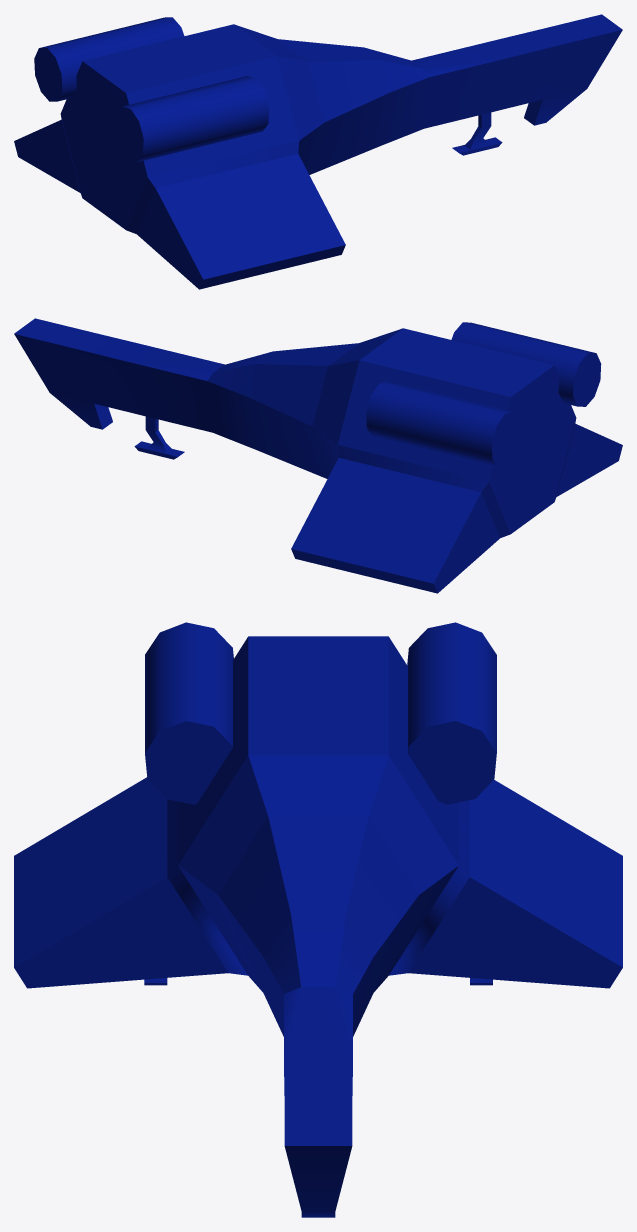
File: missile.dae
The picture shows the model from 3 angles, top to bottom: view 1: azimuth 30°, elevation 25°; view 2: azimuth 150°, elevation 25°; view 3: azimuth 270°, elevation 25°; orthographic projection. The views are drawn at different scales.
Visible parts, largest first — view 1: SS1Bcopy, Engine, Engine1, FrontSkid; view 2: SS1Bcopy, Engine1, Engine, FrontSkid; view 3: SS1Bcopy, Engine1, Engine.
Boxes of the visible parts, <box> form: SS1Bcopy: <box>14,14,622,289</box>; Engine: <box>115,76,269,161</box>; Engine1: <box>34,17,184,101</box>; FrontSkid: <box>452,112,502,155</box>; SS1Bcopy: <box>14,318,622,593</box>; Engine1: <box>366,381,519,467</box>; Engine: <box>451,322,601,406</box>; FrontSkid: <box>134,416,184,459</box>; SS1Bcopy: <box>14,636,622,1217</box>; Engine1: <box>407,622,496,804</box>; Engine: <box>145,622,233,804</box>.
Bounding box in the file's own units: 11.98 × 3.61 × 7.51.
